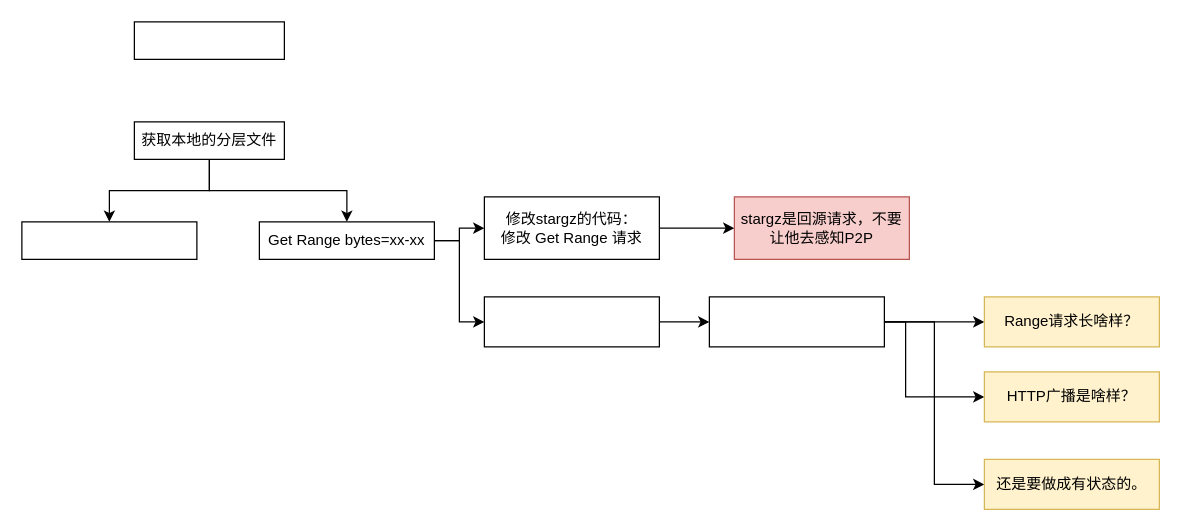
The diagram is 1181 pixels wide and 531 high, and some of its shapes have lost their labels. The shapes that lost their labels are listed below. From the top down, each one's centre as x and y in pixels, then its label:
At point 208,40: "stargz-snapshotter".
At point 109,240: "直接使用".
At point 571,321: "修改spegel的代码： 劫持 Get Range 请求".
At point 796,321: "Range请求 => 节点、chunk目录".
